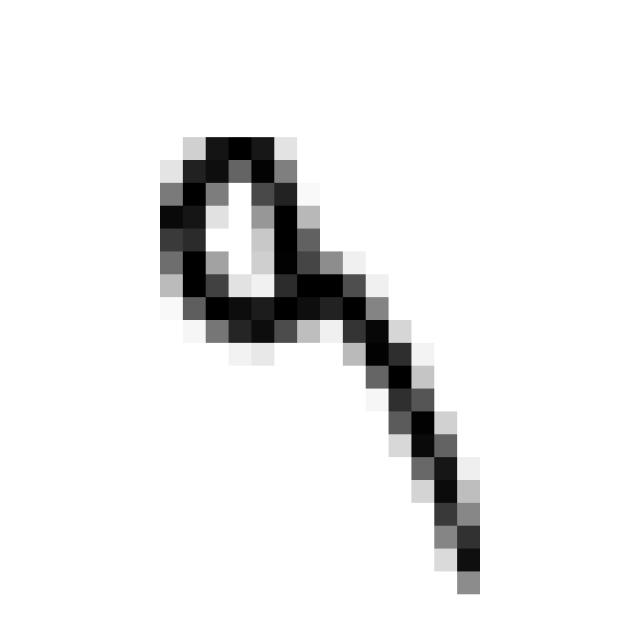9 -nine-: (146, 110, 506, 608)
